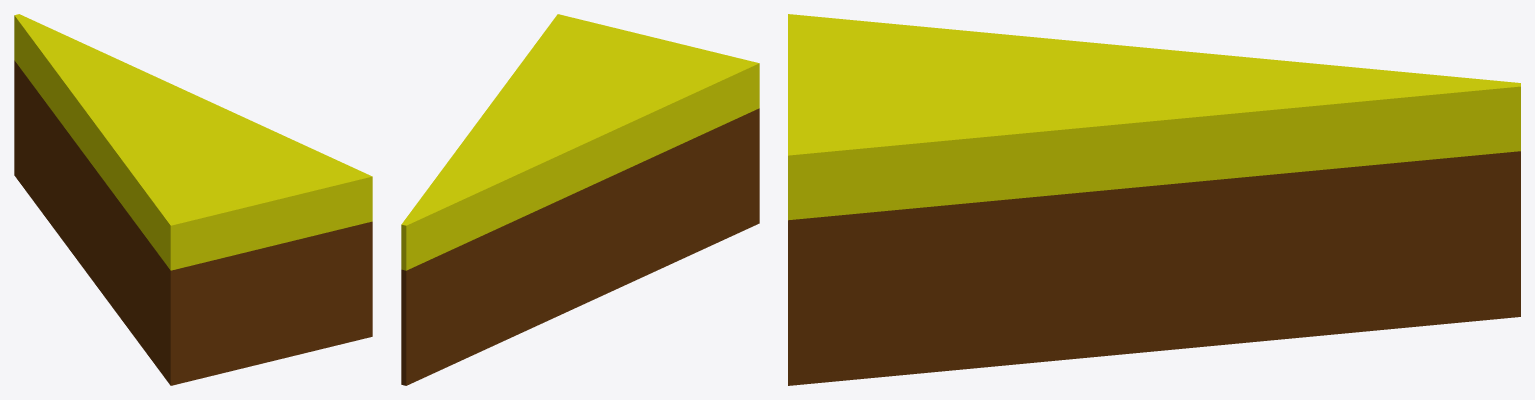
File: cake2.fbx
3 renders of one model, left to right at view 1: azimuth 30°, elevation 25°; view 2: azimuth 150°, elevation 25°; view 3: azimuth 270°, elevation 25°, orthographic. The views are drawn at different scales.
Visible parts, largest first — view 1: cake2; view 2: cake2; view 3: cake2.
Part boxes in pixels (x1,y1,x2,y2): cake2: [14, 14, 372, 385]; cake2: [401, 14, 759, 385]; cake2: [788, 14, 1520, 385].
Bounding box in the file's own units: 55.05 × 41.76 × 120.
